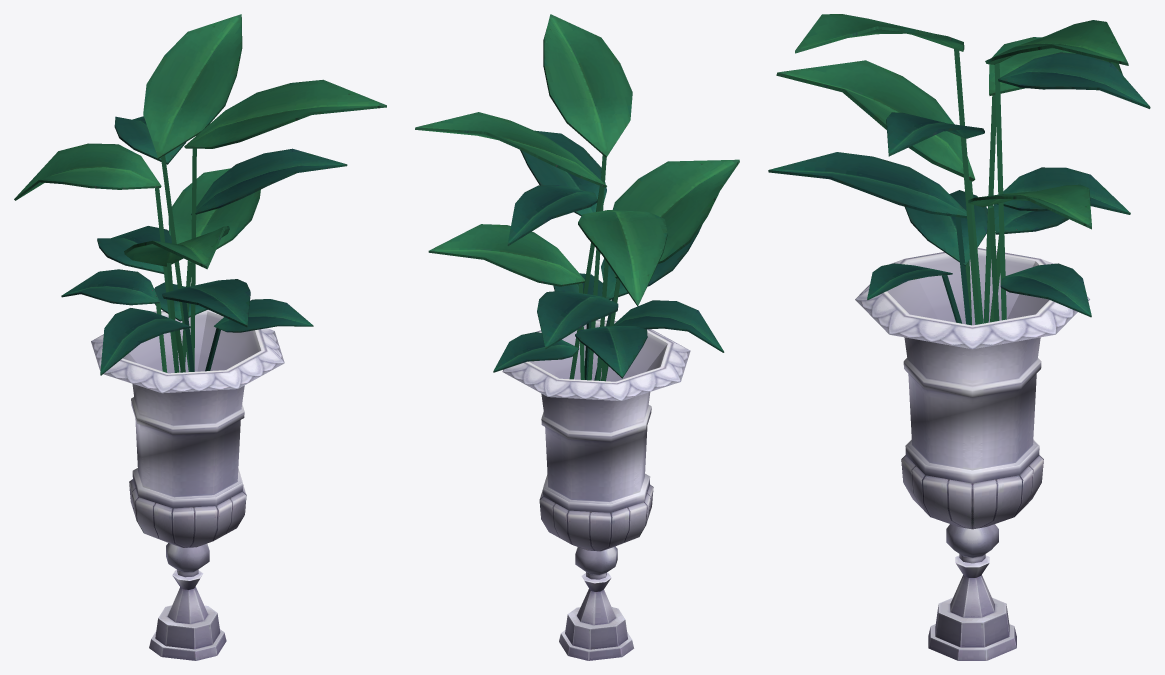
Rendered from my_gehennaparty_01_plantpot_01.glb.
3 views of the same model, side by side, from view 1: azimuth 30°, elevation 25°; view 2: azimuth 150°, elevation 25°; view 3: azimuth 270°, elevation 25° (orthographic). The views are drawn at different scales.
Parts seen in each view (by area): view 1: my_gehennaparty_01_plantpot_01; view 2: my_gehennaparty_01_plantpot_01; view 3: my_gehennaparty_01_plantpot_01.
Part boxes in pixels (bbox=[...]): my_gehennaparty_01_plantpot_01: bbox=[14, 14, 386, 660]; my_gehennaparty_01_plantpot_01: bbox=[415, 14, 739, 660]; my_gehennaparty_01_plantpot_01: bbox=[768, 14, 1150, 660].
Size of the model in its own units: 0.00437 by 0.0102 by 0.00528.
1 material, 1 textured.
